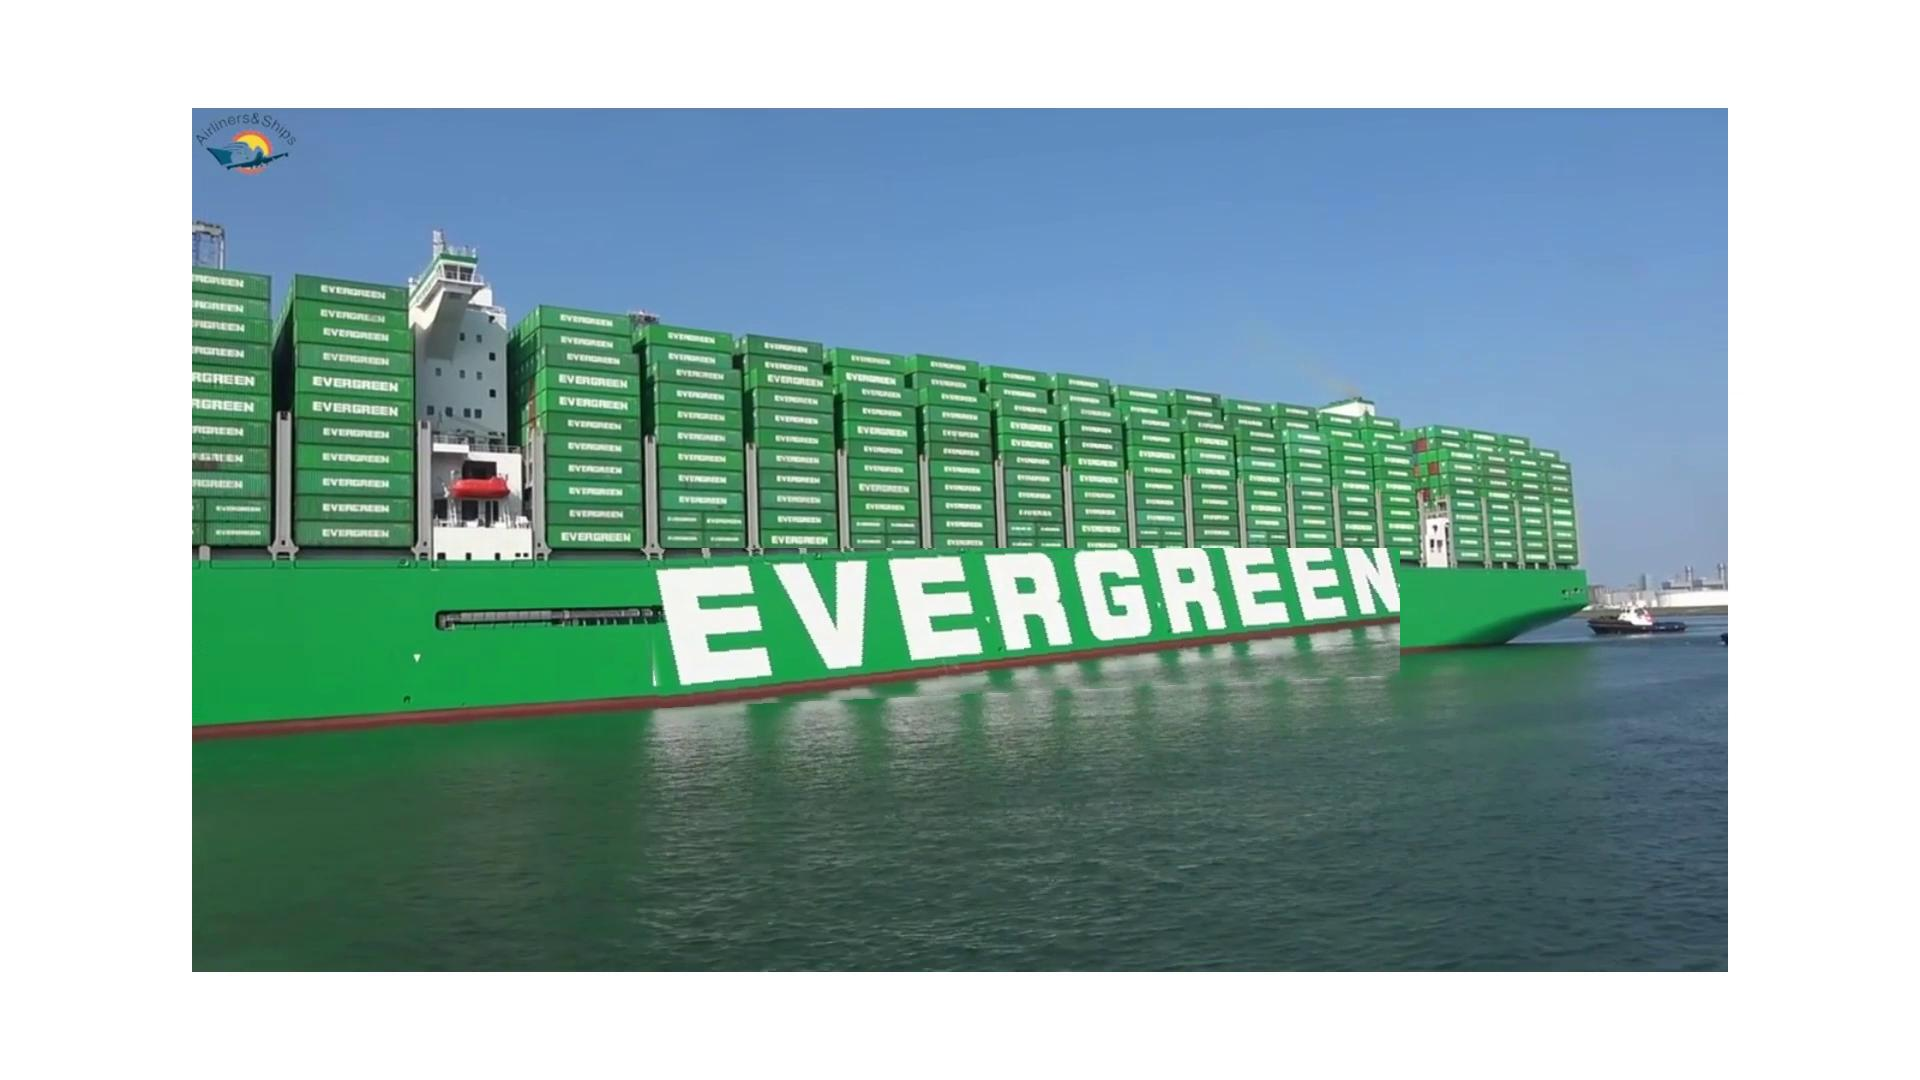OCR: (629, 549, 1400, 708)
